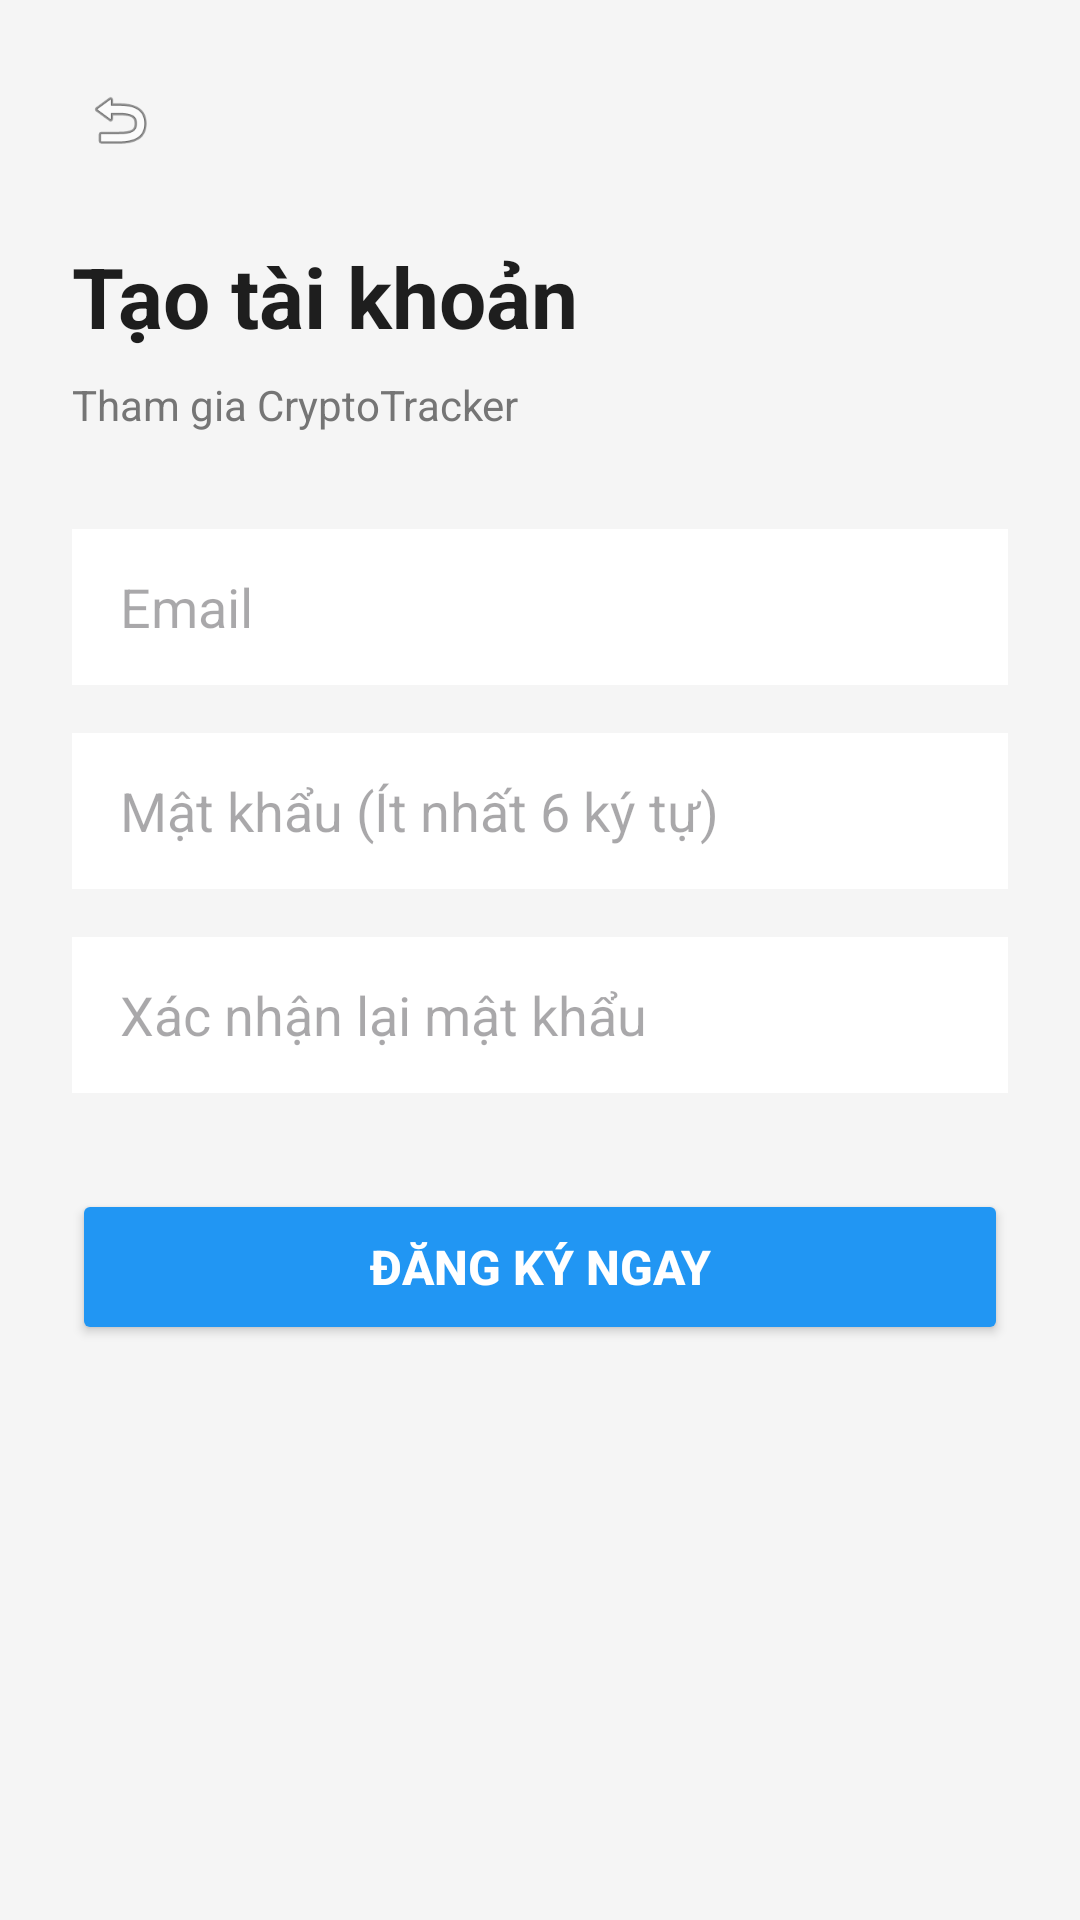

Locate icon controls on the screen. Image size 1080*1920, boxes as [x1,y1,x2,y2].
revert: [95,97,147,144]
